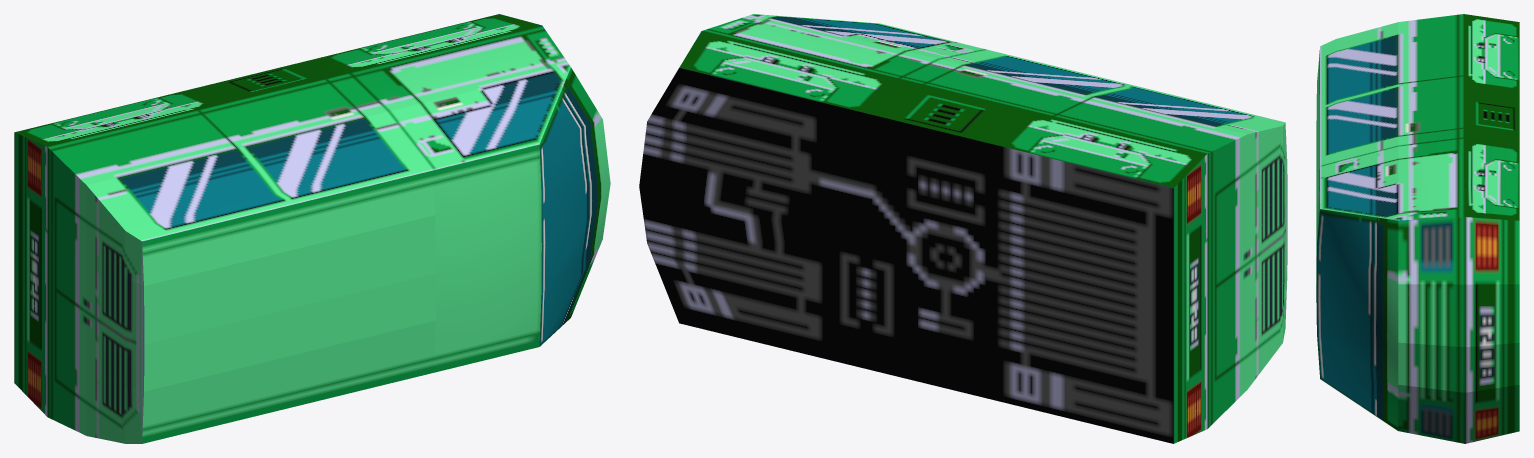
Rendered from van.obj.
3 renders of one model, left to right at view 1: azimuth 30°, elevation 25°; view 2: azimuth 150°, elevation 25°; view 3: azimuth 270°, elevation 25°, orthographic. The views are drawn at different scales.
Parts seen in each view (by area): view 1: van; view 2: van; view 3: van.
Boxes of the visible parts, box(x1,y1,x2,y2) form: van: box(14, 14, 610, 443); van: box(639, 14, 1287, 443); van: box(1316, 14, 1519, 443).
Size of the model in its own units: 56.46 by 27.27 by 22.13.
